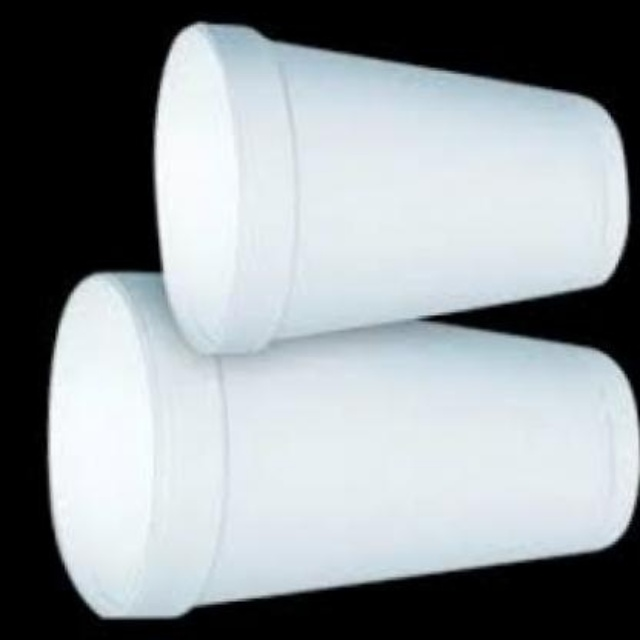trash: (49, 25, 638, 615), (49, 272, 637, 615), (155, 25, 626, 352)
